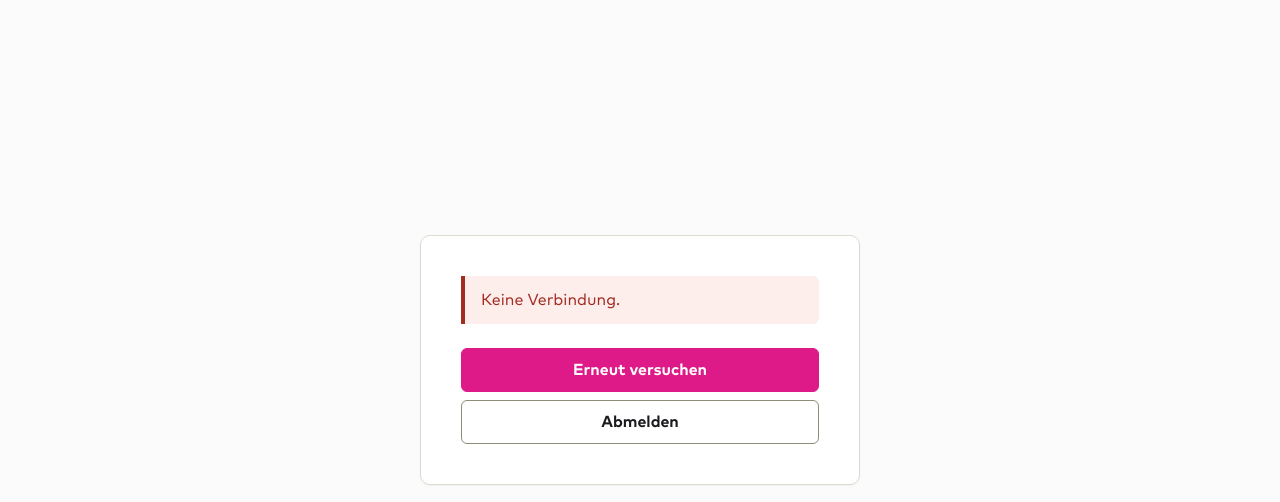
App › retry succeeds after a network error
Click the button "Erneut versuchen": x=640, y=370 [461,348,819,392]
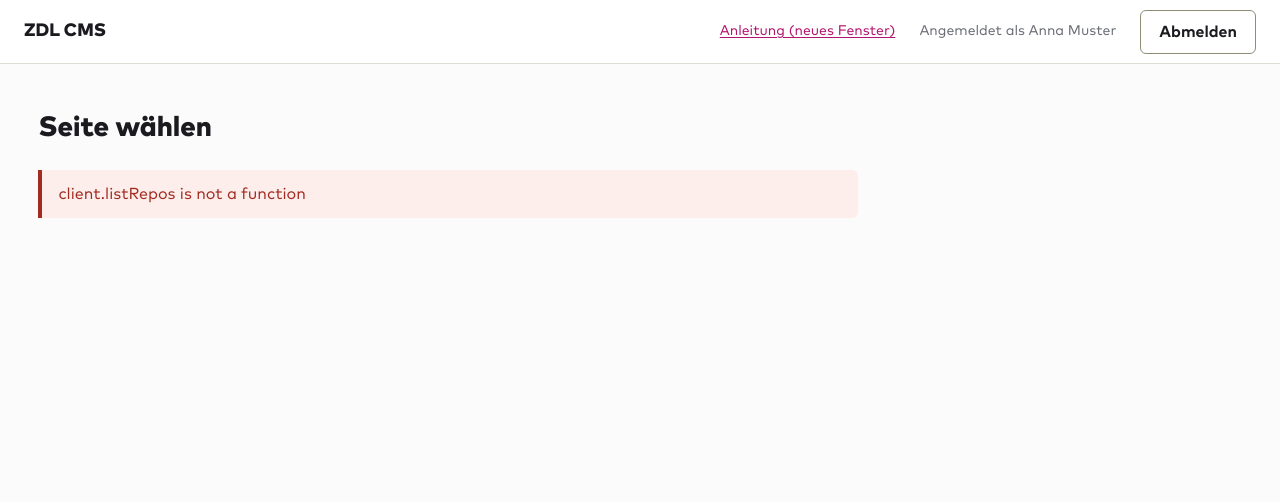
Expected: the text "Angemeldet als Anna Muster" is shown, [919,21,1116,42]
